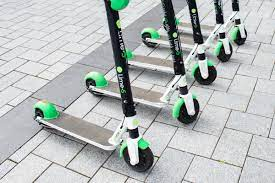kick_wheel: (119, 140, 154, 172), (173, 95, 200, 123), (33, 100, 55, 129), (192, 62, 217, 85), (84, 70, 104, 96), (214, 39, 233, 62), (231, 26, 248, 45), (140, 29, 157, 47)
